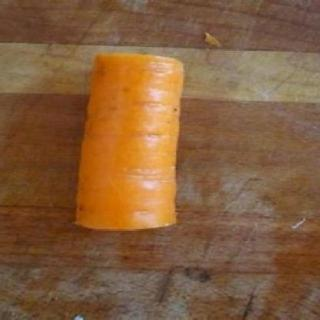carrot: (60, 45, 196, 241)
